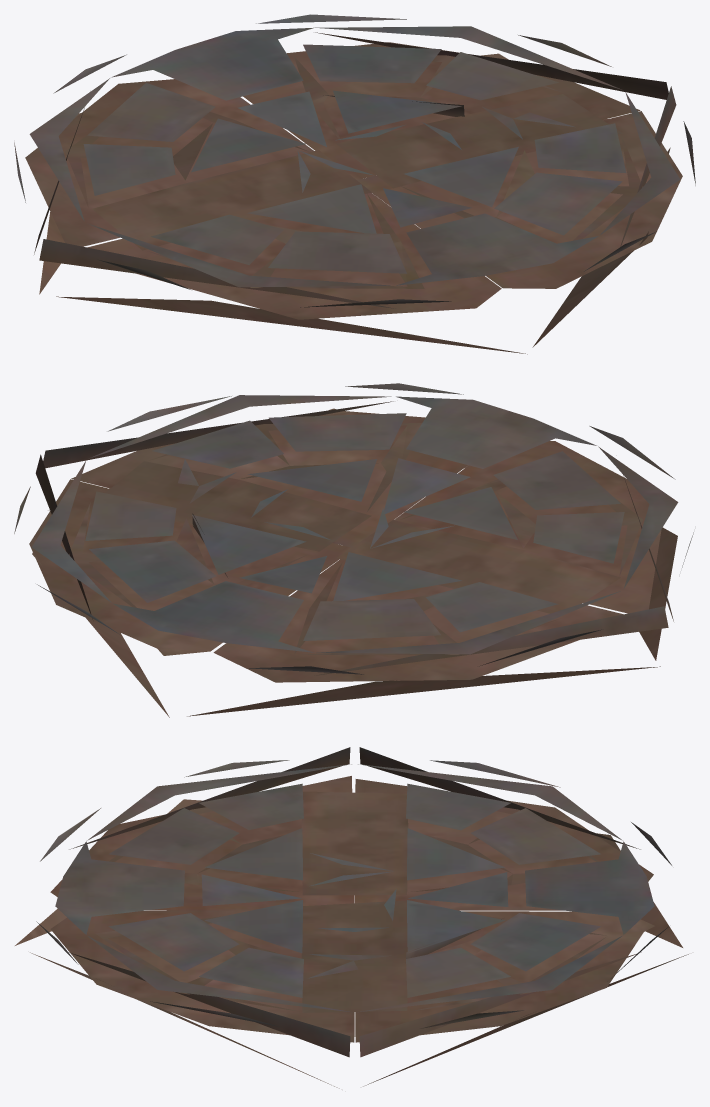
File: water_manhole_cover.glb
3 renders of one model, top to bottom at view 1: azimuth 30°, elevation 25°; view 2: azimuth 150°, elevation 25°; view 3: azimuth 270°, elevation 25°, orthographic. The views are drawn at different scales.
Parts seen in each view (by area): view 1: water_manhole_cover, water_manhole_cover_frame; view 2: water_manhole_cover, water_manhole_cover_frame; view 3: water_manhole_cover, water_manhole_cover_frame.
Part boxes in pixels (bbox=[...]): water_manhole_cover: bbox=[25, 26, 682, 319]; water_manhole_cover_frame: bbox=[14, 14, 695, 354]; water_manhole_cover: bbox=[29, 395, 678, 682]; water_manhole_cover_frame: bbox=[14, 383, 693, 717]; water_manhole_cover: bbox=[50, 747, 654, 1057]; water_manhole_cover_frame: bbox=[15, 760, 688, 1088].
Bounding box in the file's own units: 0.6867 × 0.0673 × 0.674.
1 material, 1 textured.
